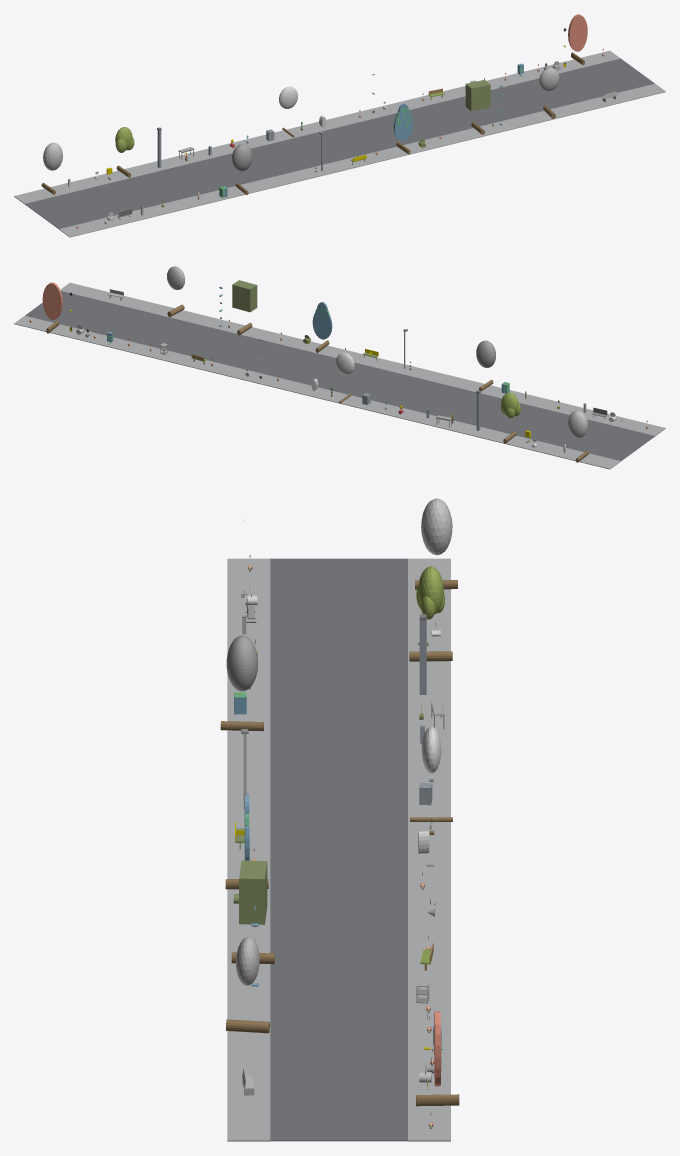
3 renders of one model, top to bottom at view 1: azimuth 30°, elevation 25°; view 2: azimuth 150°, elevation 25°; view 3: azimuth 270°, elevation 25°, orthographic. The views are drawn at different scales.
Parts seen in each view (by area): view 1: road_slab, sidewalk_left, sidewalk_right, inst_0023, inst_0025, inst_0022, inst_0018, inst_0020, inst_0019, inst_0024, inst_0021; view 2: road_slab, sidewalk_right, sidewalk_left, inst_0023, inst_0025, inst_0022, inst_0018, inst_0020, inst_0019, inst_0024, inst_0021; view 3: road_slab, sidewalk_right, sidewalk_left, inst_0023, inst_0020, inst_0018, inst_0019, inst_0024, inst_0025, inst_0021.
Boxes of the visible parts, x1=… form: road_slab: x1=25, y1=58, x2=654, y2=229; sidewalk_left: x1=59, y1=84, x2=665, y2=237; sidewalk_right: x1=14, y1=50, x2=620, y2=204; inst_0023: x1=465, y1=80, x2=490, y2=134; inst_0025: x1=568, y1=14, x2=587, y2=65; inst_0022: x1=393, y1=103, x2=413, y2=154; inst_0018: x1=41, y1=142, x2=62, y2=194; inst_0020: x1=232, y1=144, x2=252, y2=195; inst_0019: x1=115, y1=127, x2=134, y2=177; inst_0024: x1=539, y1=68, x2=559, y2=118; inst_0021: x1=279, y1=86, x2=297, y2=137; road_slab: x1=25, y1=291, x2=654, y2=461; sidewalk_right: x1=14, y1=316, x2=620, y2=469; sidewalk_left: x1=60, y1=282, x2=665, y2=436; inst_0023: x1=232, y1=280, x2=257, y2=335; inst_0025: x1=42, y1=282, x2=62, y2=333; inst_0022: x1=312, y1=302, x2=332, y2=352; inst_0018: x1=568, y1=410, x2=588, y2=462; inst_0020: x1=476, y1=340, x2=495, y2=391; inst_0019: x1=500, y1=392, x2=520, y2=443; inst_0024: x1=167, y1=266, x2=185, y2=316; inst_0021: x1=335, y1=352, x2=354, y2=403; road_slab: x1=270, y1=558, x2=407, y2=1141; sidewalk_right: x1=408, y1=558, x2=450, y2=1141; sidewalk_left: x1=227, y1=558, x2=270, y2=1141; inst_0023: x1=231, y1=860, x2=274, y2=964; inst_0020: x1=220, y1=635, x2=263, y2=731; inst_0018: x1=415, y1=498, x2=457, y2=589; inst_0019: x1=409, y1=566, x2=452, y2=661; inst_0024: x1=226, y1=936, x2=269, y2=1033; inst_0025: x1=416, y1=1011, x2=459, y2=1106; inst_0021: x1=410, y1=726, x2=452, y2=821.
Size of the model in its own units: 80 by 6.08 by 13.86.
